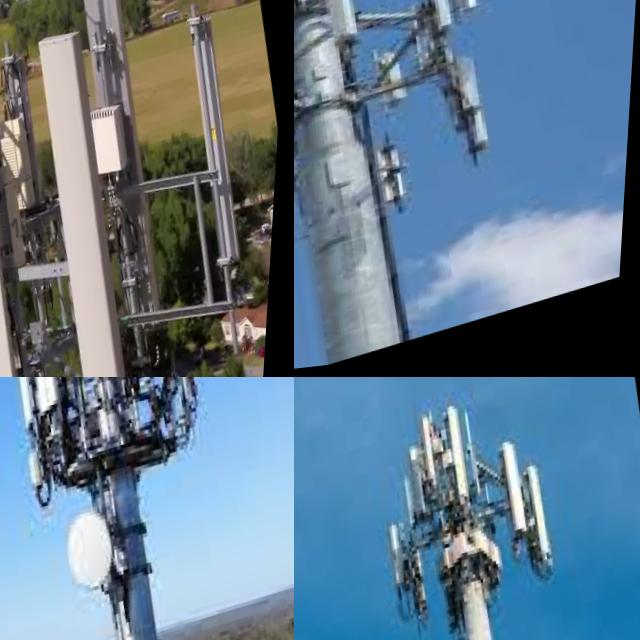GSM Antenna: (14, 17, 172, 377), (65, 0, 184, 364), (178, 12, 268, 291), (0, 99, 46, 377), (0, 102, 44, 377), (430, 59, 514, 181), (525, 464, 565, 582), (500, 443, 539, 545), (440, 409, 475, 510), (316, 0, 374, 57), (415, 419, 451, 506), (385, 525, 417, 616), (403, 447, 434, 537), (3, 377, 45, 434), (21, 377, 72, 417), (418, 0, 462, 45)
Microwave Antenna: (56, 498, 141, 608)
